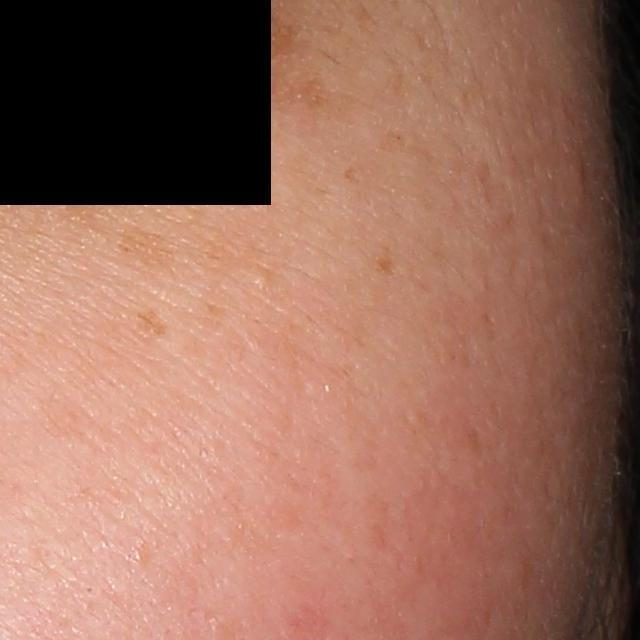comedo: (250, 269, 275, 292)
melasma: (58, 175, 183, 270), (137, 308, 168, 341), (372, 246, 394, 279), (340, 164, 359, 189)
